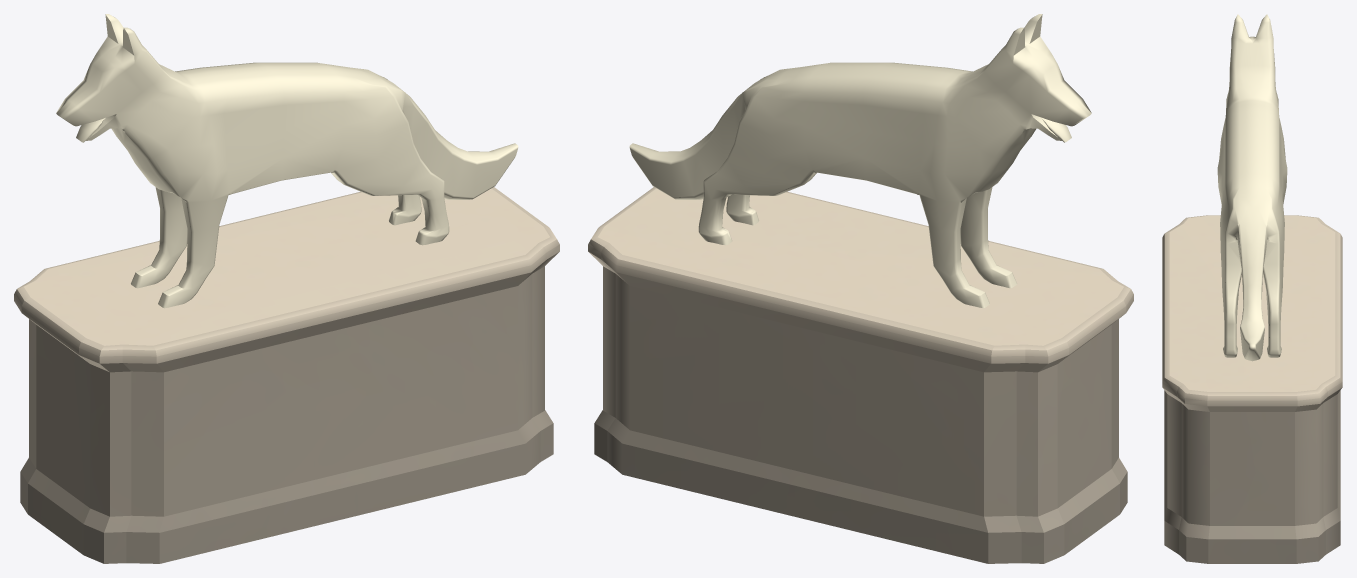
File: Dog Statue DANIEL.fbx
The picture shows the model from 3 angles, left to right: view 1: azimuth 30°, elevation 25°; view 2: azimuth 150°, elevation 25°; view 3: azimuth 270°, elevation 25°; orthographic projection. The views are drawn at different scales.
Parts seen in each view (by area): view 1: Statue, dog; view 2: Statue, dog; view 3: Statue, dog.
Part boxes in pixels (x1,y1,x2,y2): Statue: (14, 187, 559, 563); dog: (56, 14, 518, 308); Statue: (588, 187, 1133, 563); dog: (629, 14, 1091, 308); Statue: (1162, 215, 1342, 563); dog: (1217, 14, 1287, 361).
Size of the model in its own units: 0.5949 by 0.6 by 0.2485.
